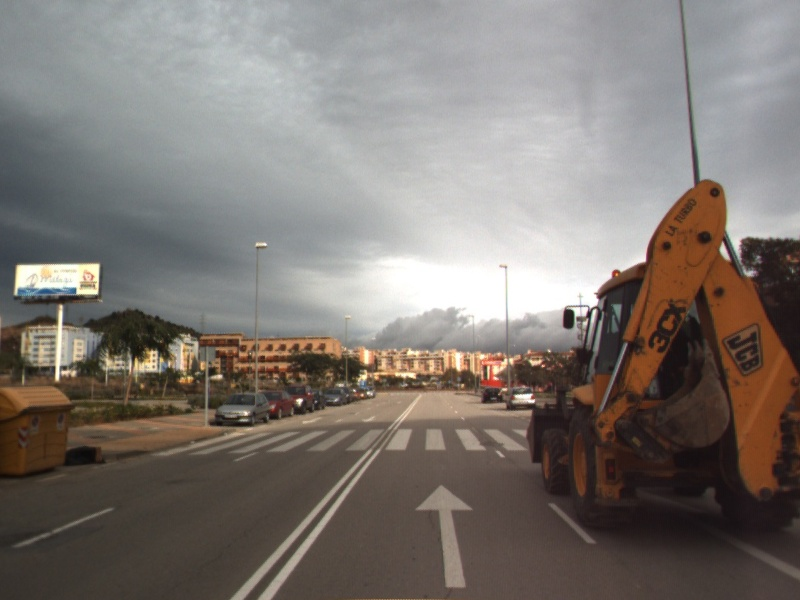STRAIGHT: (634, 487, 800, 583), (412, 482, 476, 590)
